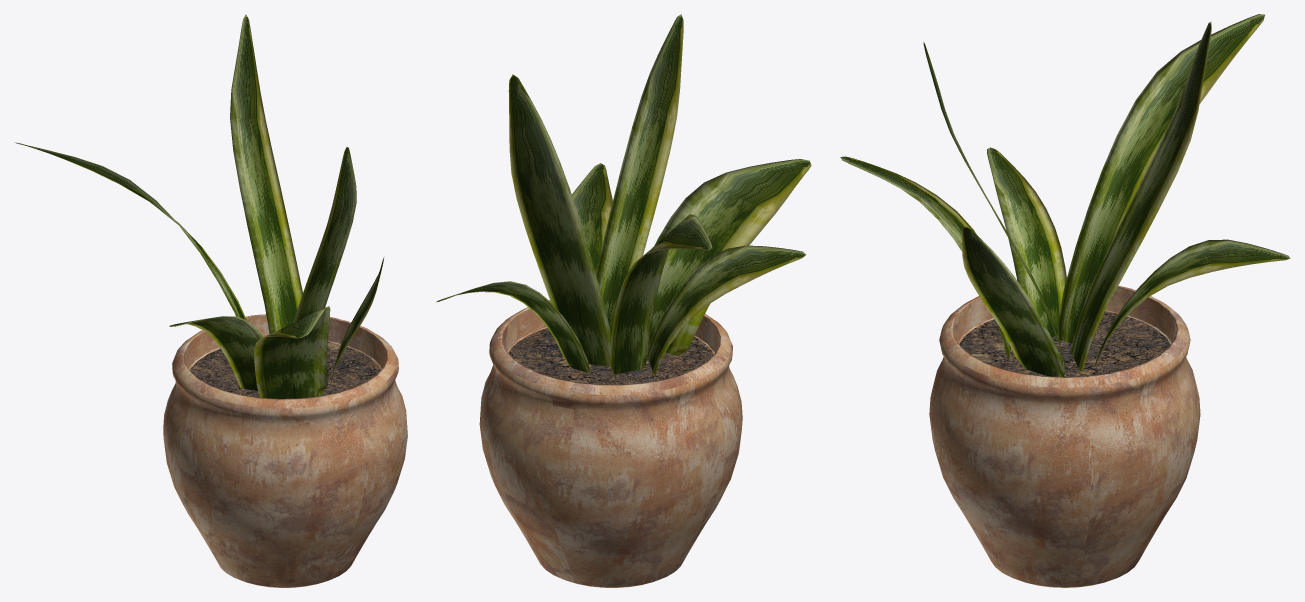
3 renders of one model, left to right at view 1: azimuth 30°, elevation 25°; view 2: azimuth 150°, elevation 25°; view 3: azimuth 270°, elevation 25°, orthographic. The views are drawn at different scales.
Visible parts, largest first — view 1: Snake Plant_0; view 2: Snake Plant_0; view 3: Snake Plant_0.
Part boxes in pixels (x1=…): Snake Plant_0: x1=15, y1=14, x2=407, y2=587; Snake Plant_0: x1=436, y1=14, x2=811, y2=587; Snake Plant_0: x1=840, y1=14, x2=1290, y2=587.
Bounding box in the file's own units: 0.788 × 1.29 × 0.9545.
Materials: 3 (3 with a texture image).
